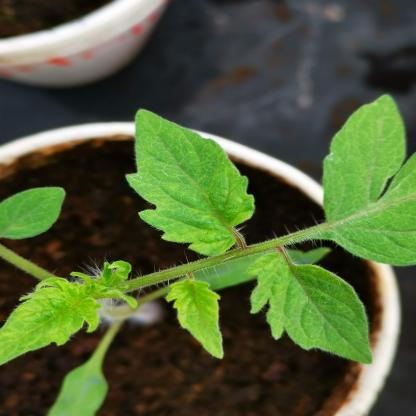T_L_R: (297, 96, 416, 267), (126, 109, 256, 257), (1, 262, 140, 366), (246, 253, 373, 366), (167, 279, 224, 360), (1, 188, 66, 240)
T_S_R: (128, 243, 283, 293)
